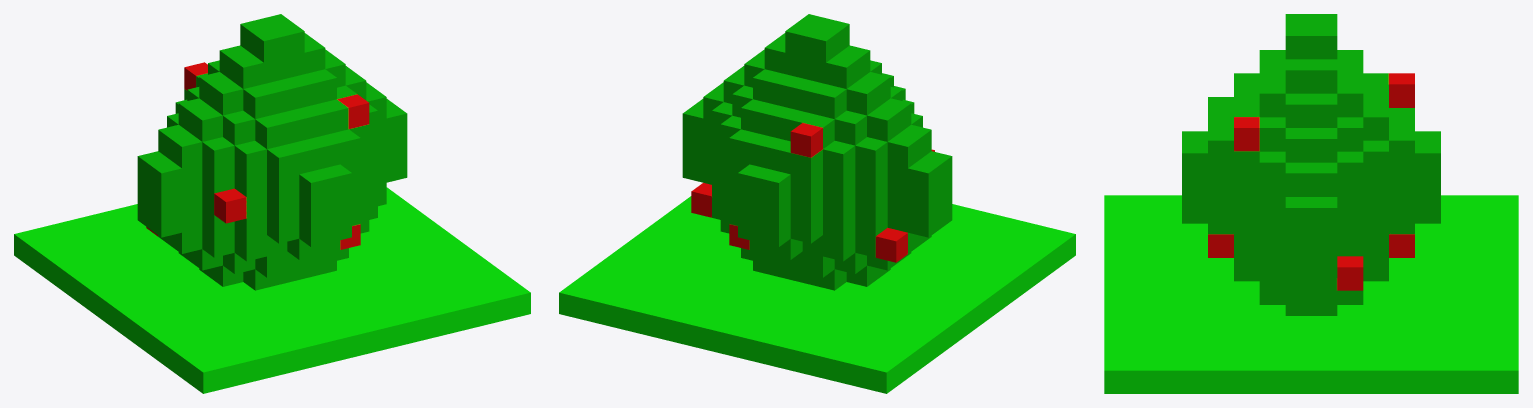
Rendered from decoration_15.fbx.
3 renders of one model, left to right at view 1: azimuth 30°, elevation 25°; view 2: azimuth 150°, elevation 25°; view 3: azimuth 270°, elevation 25°, orthographic. The views are drawn at different scales.
Parts seen in each view (by area): view 1: decoration_15; view 2: decoration_15; view 3: decoration_15.
Boxes of the visible parts, x1,y1,x2,y2 form: decoration_15: (14,14,530,393); decoration_15: (559,14,1075,393); decoration_15: (1104,14,1518,393).
Bounding box in the file's own units: 160 × 120 × 160.
Materials: 1 (1 with a texture image).
